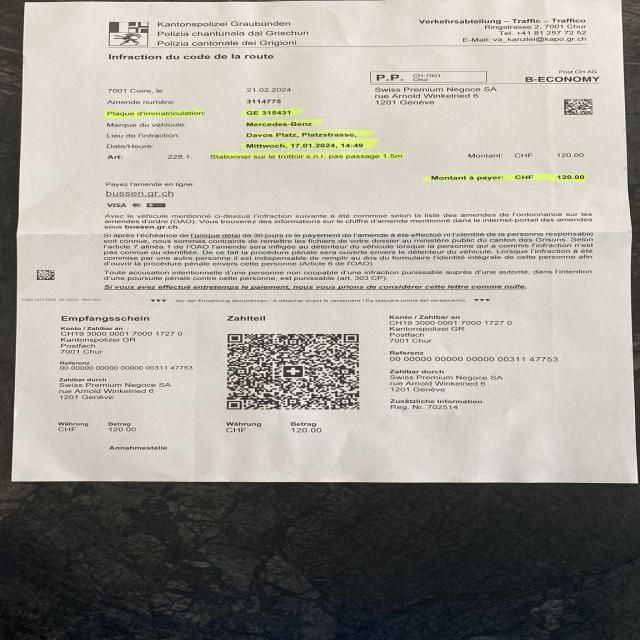paper-document-: (13, 0, 639, 484)
